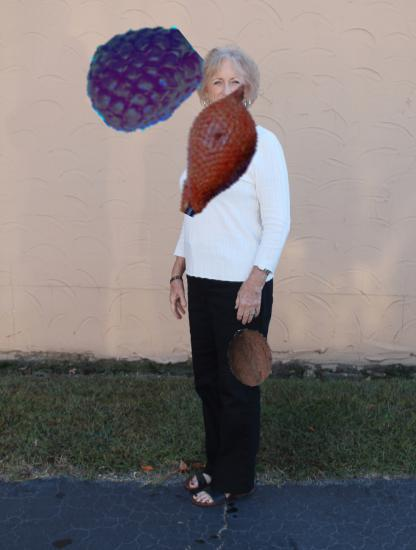Cocos: (221, 328, 280, 387)
Raspberry: (83, 17, 200, 134)
Salak: (147, 78, 291, 222)
